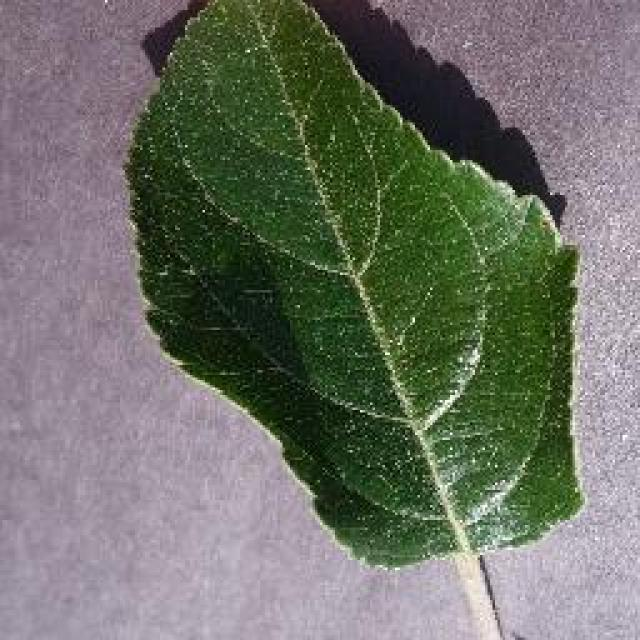apple healthy: (120, 0, 588, 570)
